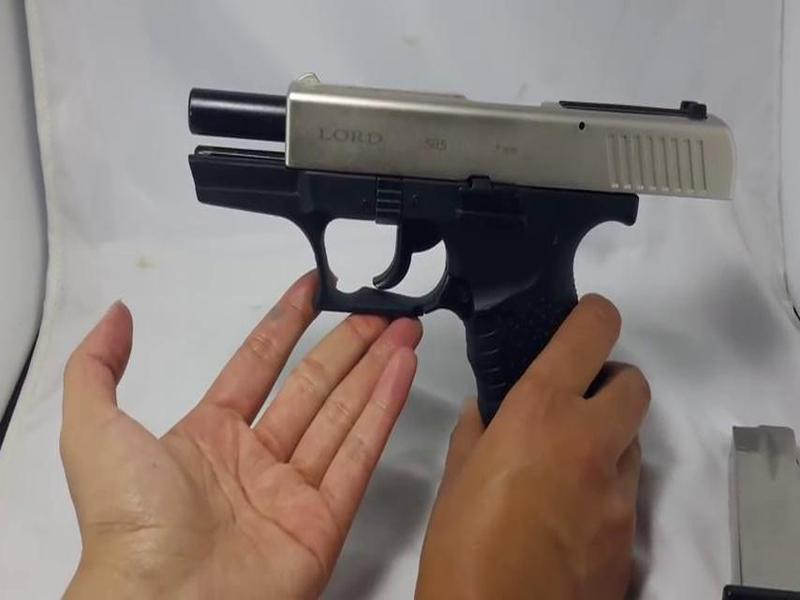Pistola: (193, 41, 726, 458)
